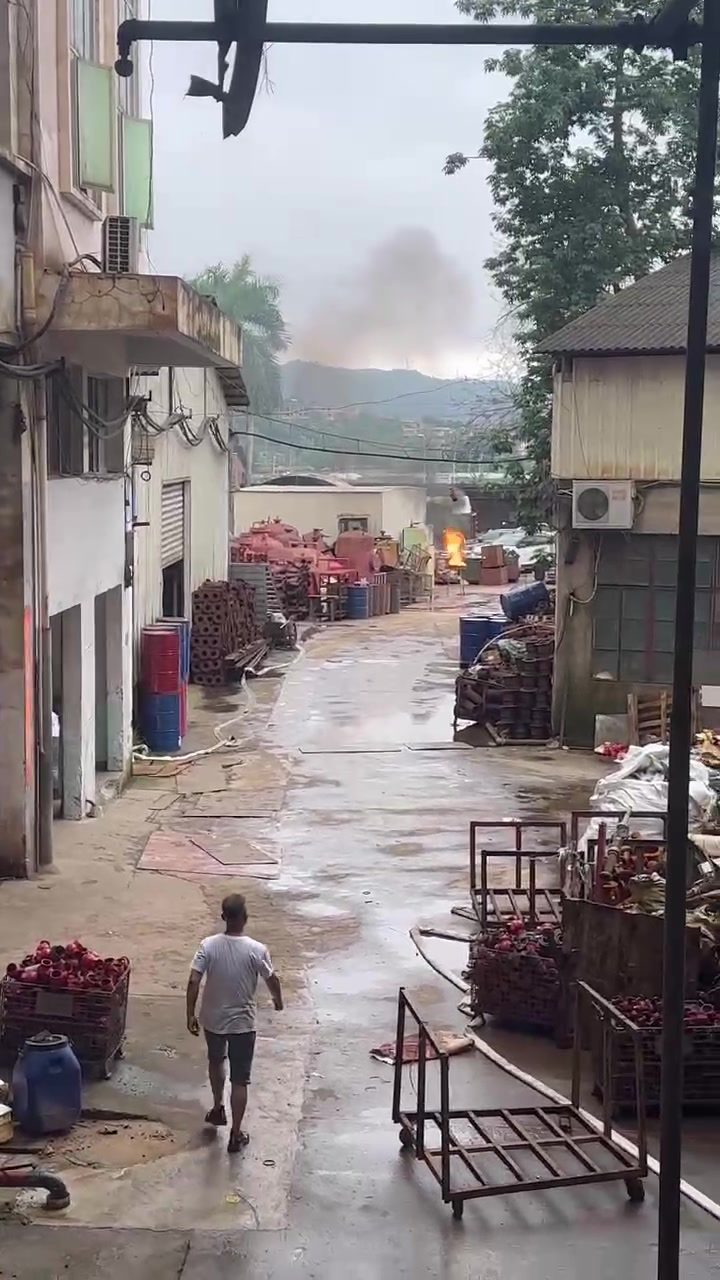fire: (443, 527, 465, 565)
